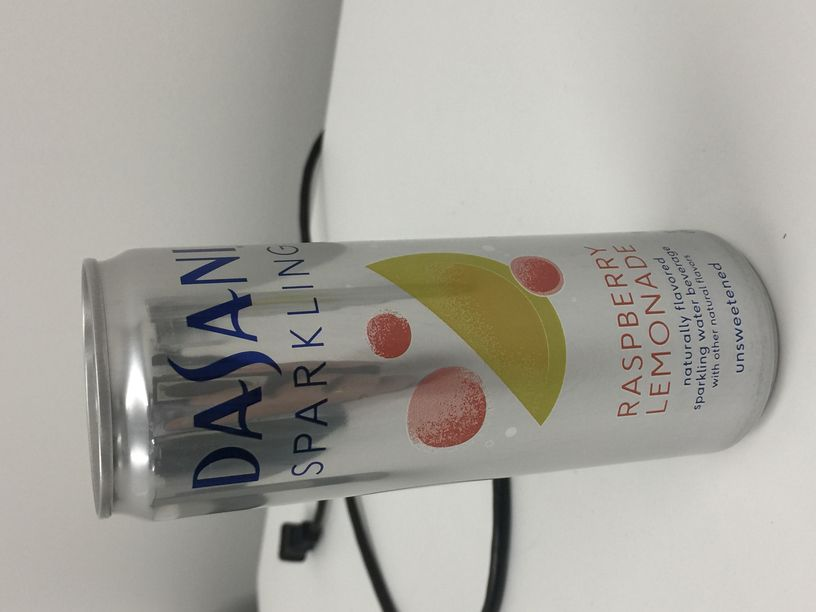lemonade: (63, 227, 791, 525)
